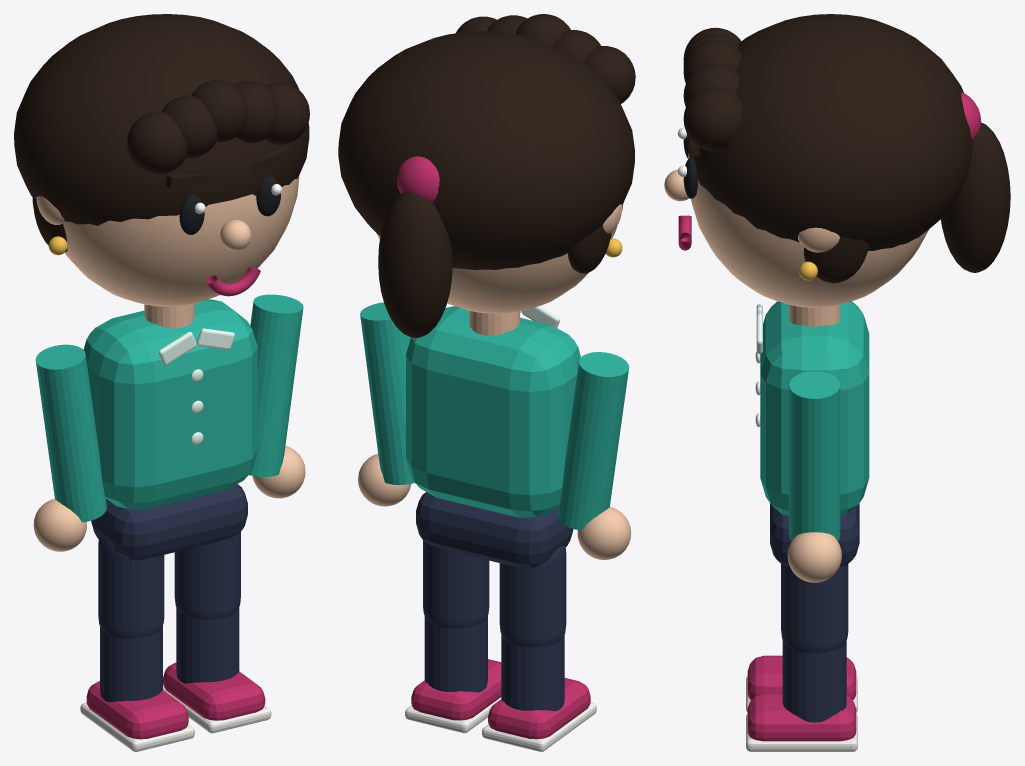
File: companera.glb
The picture shows the model from 3 angles, left to right: view 1: azimuth 30°, elevation 25°; view 2: azimuth 150°, elevation 25°; view 3: azimuth 270°, elevation 25°; orthographic projection.
Visible parts, largest first — view 1: cabeza, Cube.001, brazo_i, rodilla_i, rodilla_d, brazo_d, Cube, pierna_i, pierna_d, Cylinder, ojo_i, ojo_d (+5 smaller); view 2: cabeza, Cube.001, brazo_i, rodilla_i, rodilla_d, brazo_d, Cube, pierna_i, pierna_d, Cylinder; view 3: cabeza, Cube.001, brazo_d, rodilla_d, pierna_d, Cube, rodilla_i, Cylinder.
Part boxes in pixels (x1,y1,x2,y2): cabeza: [14, 14, 309, 306]; Cube.001: [83, 299, 257, 509]; brazo_i: [33, 344, 106, 551]; rodilla_i: [80, 626, 194, 751]; rodilla_d: [163, 607, 271, 733]; brazo_d: [249, 294, 305, 498]; Cube: [91, 484, 247, 559]; pierna_i: [98, 537, 164, 638]; pierna_d: [174, 532, 240, 619]; Cylinder: [144, 303, 194, 328]; ojo_i: [179, 195, 205, 234]; ojo_d: [256, 176, 282, 216]; cabeza: [338, 14, 635, 337]; Cube.001: [406, 306, 580, 517]; brazo_i: [557, 352, 631, 559]; rodilla_i: [482, 635, 596, 751]; rodilla_d: [405, 616, 501, 733]; brazo_d: [358, 302, 414, 506]; Cube: [416, 492, 573, 568]; pierna_i: [499, 545, 566, 647]; pierna_d: [423, 540, 489, 628]; Cylinder: [469, 310, 519, 335]; cabeza: [664, 14, 1010, 307]; Cube.001: [760, 301, 869, 516]; brazo_d: [787, 371, 841, 582]; rodilla_d: [746, 641, 857, 751]; pierna_d: [781, 564, 848, 653]; Cube: [770, 503, 859, 566]; rodilla_i: [746, 655, 857, 712]; Cylinder: [789, 304, 840, 326].
Bounding box in the file's own units: 0.97 × 2.37 × 1.08.
